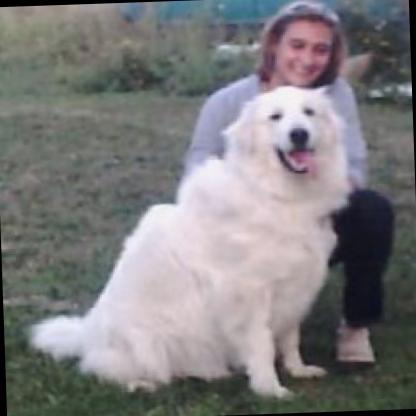Great_Pyrenees: (17, 82, 356, 406)
